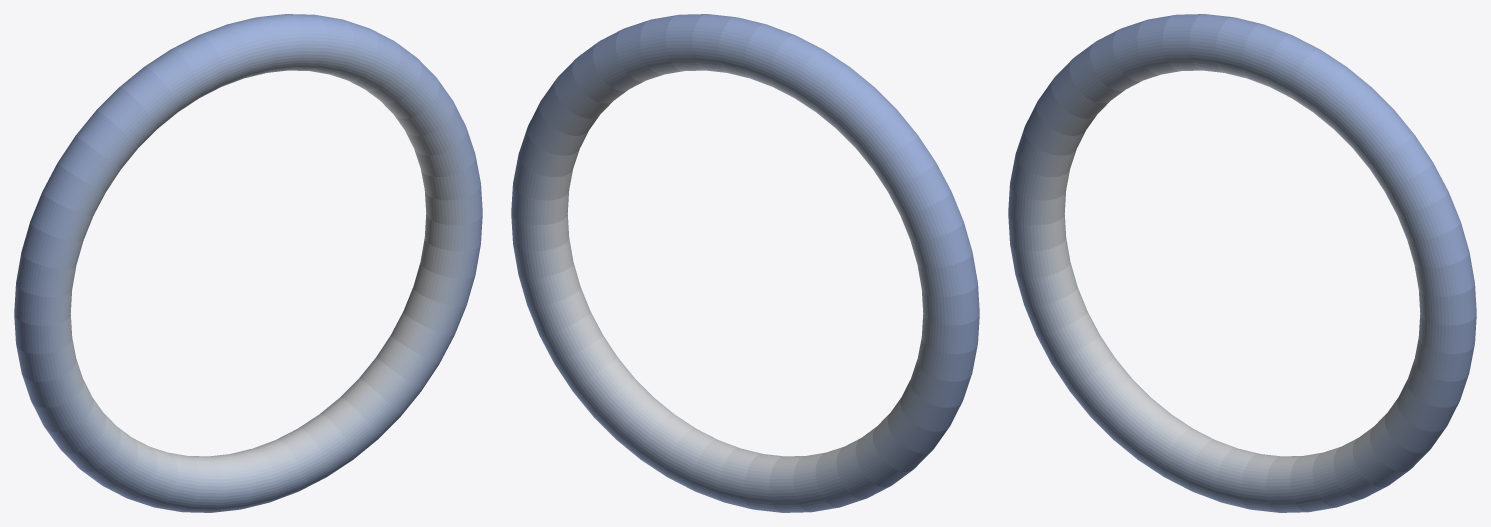
The picture shows the model from 3 angles, left to right: view 1: azimuth 30°, elevation 25°; view 2: azimuth 150°, elevation 25°; view 3: azimuth 330°, elevation 25°; orthographic projection.
Parts seen in each view (by area): view 1: world; view 2: world; view 3: world.
Boxes of the visible parts, x1,y1,x2,y2 form: world: (14,14,482,512); world: (511,14,979,512); world: (1008,14,1476,512).
Size of the model in its own units: 31.33 by 31.27 by 3.33.
